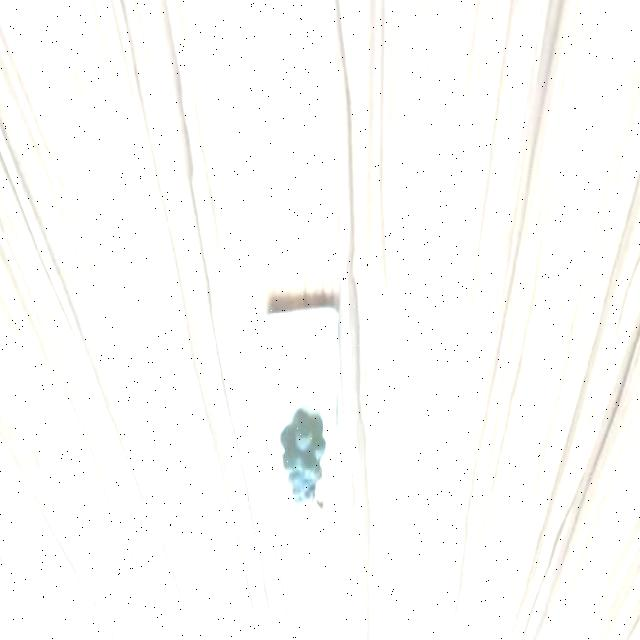car: (262, 312, 345, 465)
